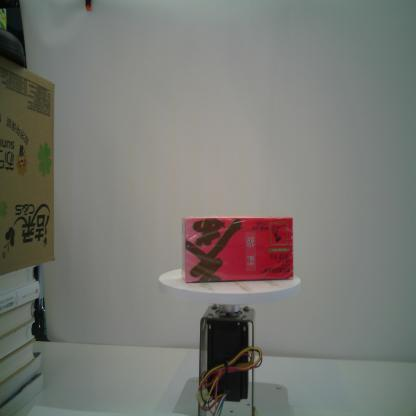Instant Drink: (182, 217, 293, 284)
